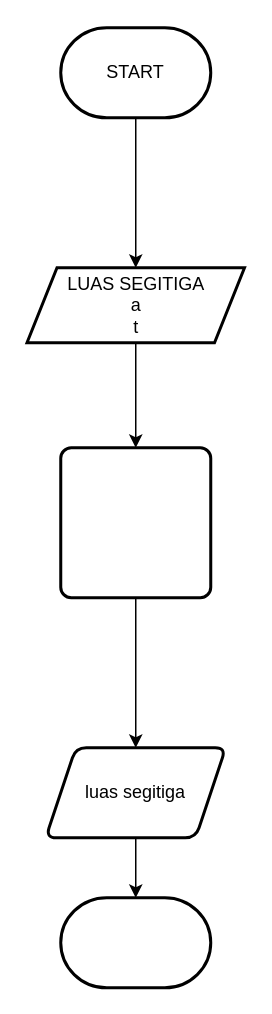
Some shapes in this 272 by 1014 pixel diagram are drawn without their labels. The centre of each missing label's shape, as x and y in pixels:
"END" goes at [135,942].
"luas segi tiga= 1/2*a*t" goes at [135,522].
